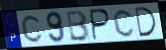9: (45, 10, 67, 45)
B: (66, 9, 91, 43)
C: (21, 13, 45, 44), (113, 8, 137, 38)
D: (133, 6, 158, 39)
P: (89, 8, 112, 42)
